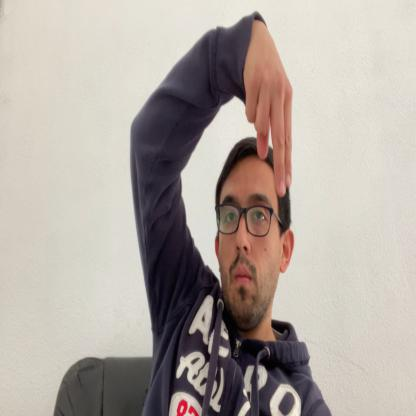N: (245, 24, 293, 198)
